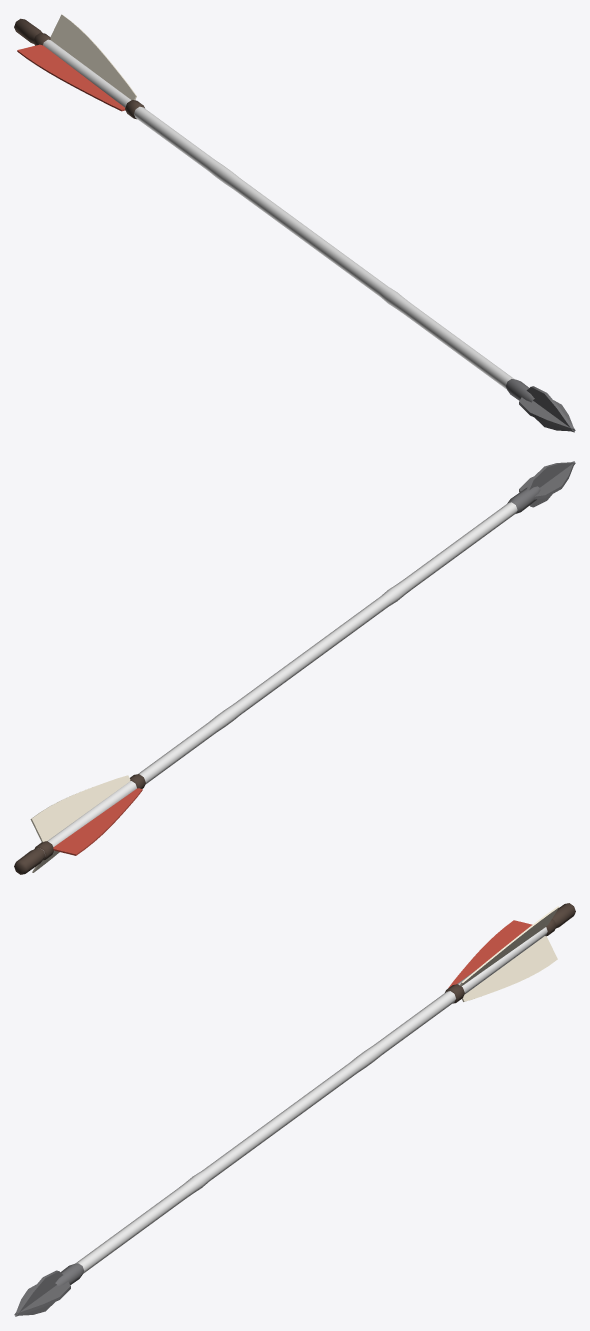
File: TungSahur_Arrow.fbx
3 renders of one model, top to bottom at view 1: azimuth 30°, elevation 25°; view 2: azimuth 150°, elevation 25°; view 3: azimuth 330°, elevation 25°, orthographic.
Visible parts, largest first — view 1: TungSahur_Arrow; view 2: TungSahur_Arrow; view 3: TungSahur_Arrow.
Boxes of the visible parts, bbox=[...] form: TungSahur_Arrow: bbox=[14, 14, 575, 432]; TungSahur_Arrow: bbox=[14, 461, 575, 874]; TungSahur_Arrow: bbox=[14, 903, 575, 1316].
Bounding box in the file's own units: 0.0385 × 0.0437 × 0.812.
